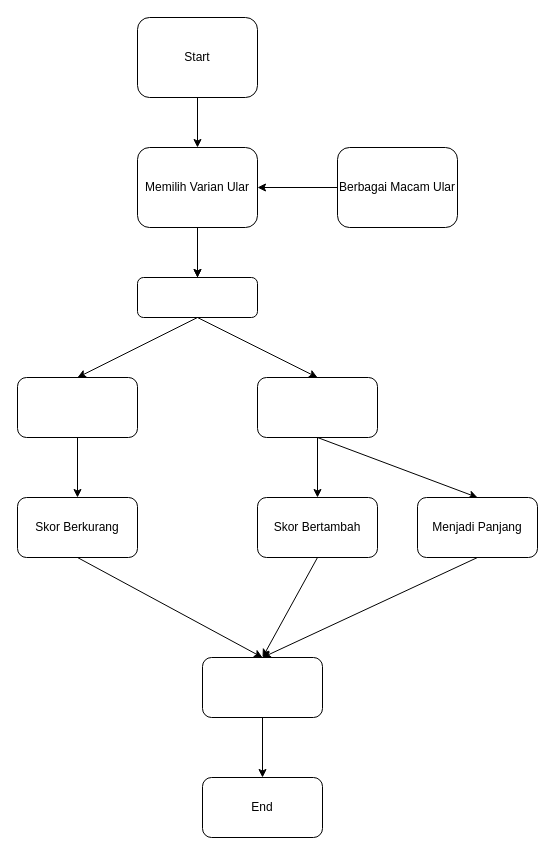
This 555x855 diagram has some shape labels left out. The centre of each missing label's shape, as x and y in pixels:
"Adanya Makanan" belongs at (317,407).
"Adanya RIntangan" belongs at (77,407).
"Memasuki Game" belongs at (197,297).
"Ular Mati" belongs at (262,687).
